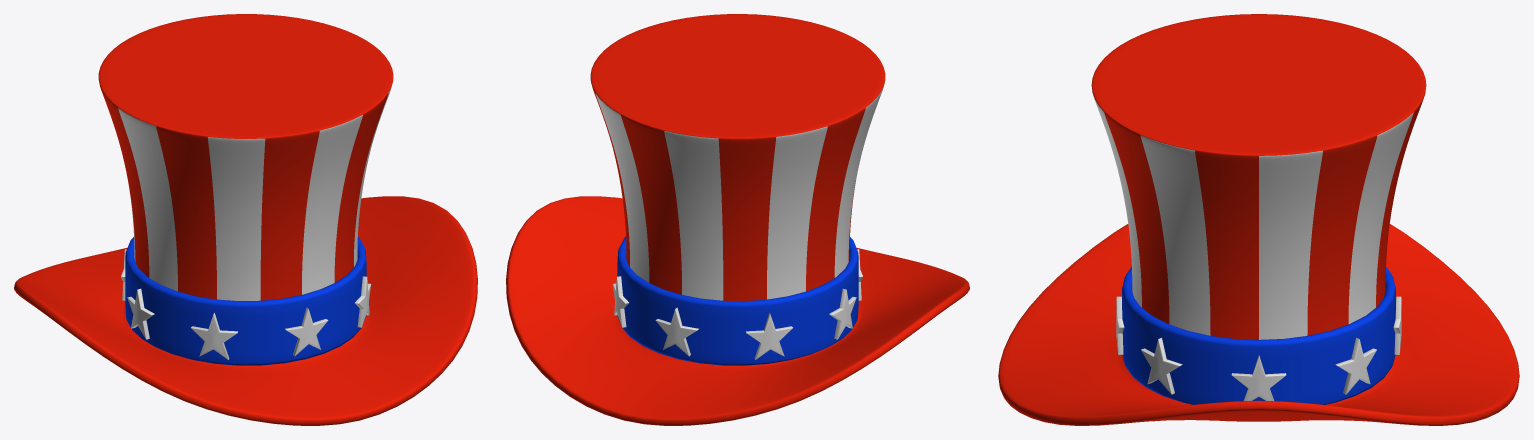
3 renders of one model, left to right at view 1: azimuth 30°, elevation 25°; view 2: azimuth 150°, elevation 25°; view 3: azimuth 270°, elevation 25°, orthographic. The views are drawn at different scales.
Parts seen in each view (by area): view 1: Circle_2, Circle.001_3, Circle.002_4; view 2: Circle_2, Circle.001_3, Circle.002_4; view 3: Circle_2, Circle.001_3, Circle.002_4.
Boxes of the visible parts, x1,y1,x2,y2 form: Circle_2: (14,14,477,425); Circle.001_3: (125,236,366,365); Circle.002_4: (121,249,371,359); Circle_2: (506,14,969,425); Circle.001_3: (617,236,858,365); Circle.002_4: (612,249,862,359); Circle_2: (998,14,1519,425); Circle.001_3: (1122,267,1395,404); Circle.002_4: (1116,296,1401,401).
Size of the model in its own units: 1.97 by 1.22 by 1.94.
